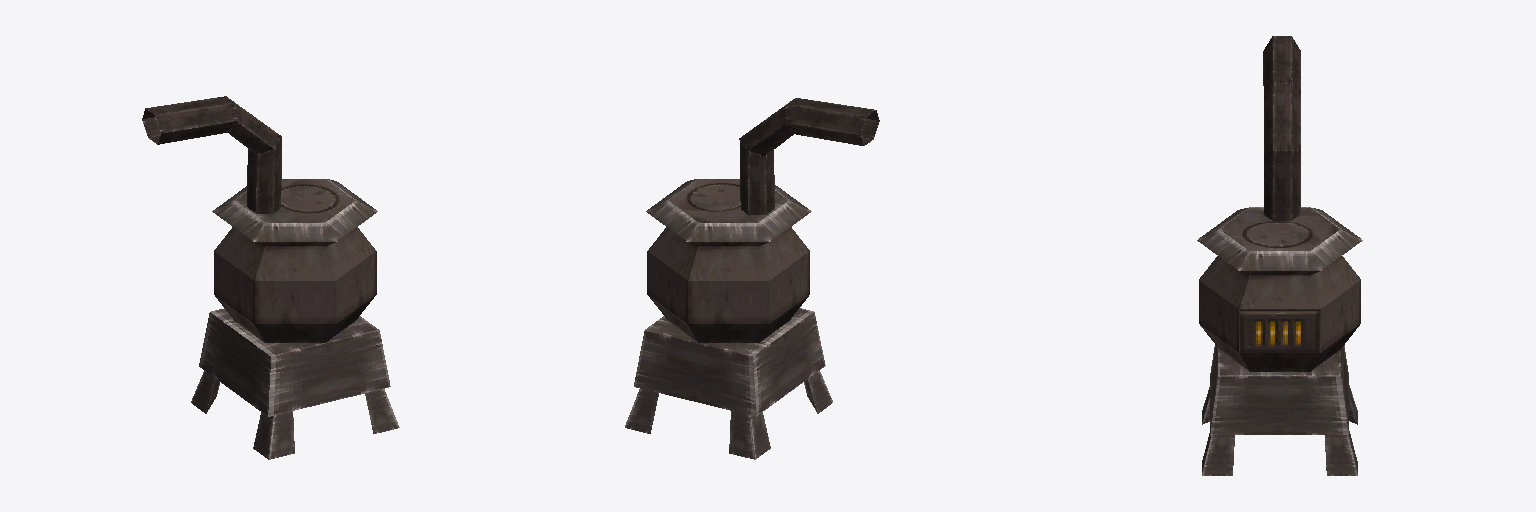
The picture shows the model from 3 angles: view 1: azimuth 30°, elevation 25°; view 2: azimuth 150°, elevation 25°; view 3: azimuth 270°, elevation 25°; orthographic projection.
Visible parts, largest first — view 1: potbellystovewall.m2; view 2: potbellystovewall.m2; view 3: potbellystovewall.m2.
Boxes of the visible parts, x1,y1,x2,y2 form: potbellystovewall.m2: [142, 96, 399, 459]; potbellystovewall.m2: [625, 98, 879, 459]; potbellystovewall.m2: [1197, 36, 1362, 475].
Bounding box in the file's own units: 1.55 × 2.4 × 1.07.
Materials: 1 (1 with a texture image).